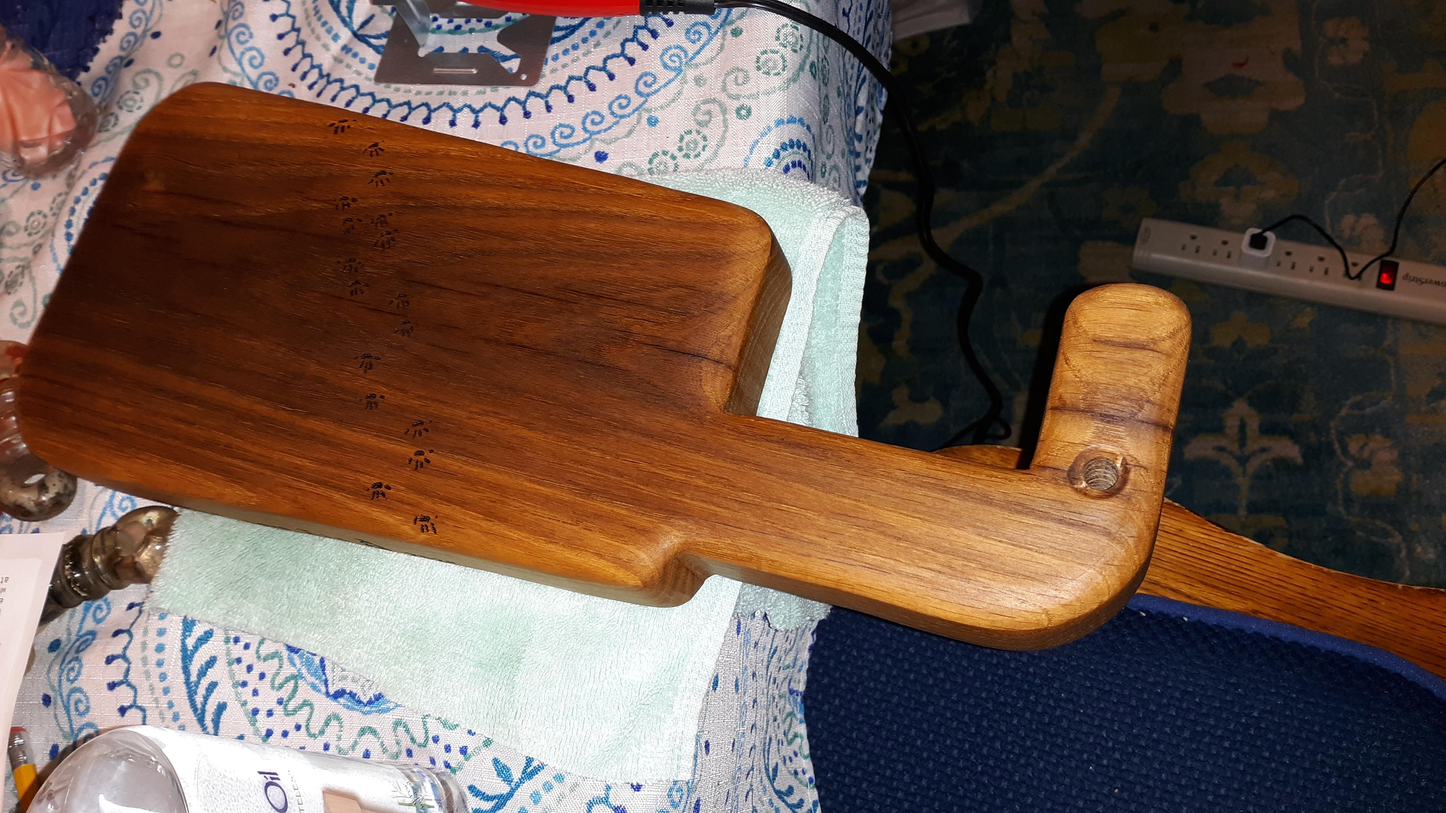gloved_hand: (13, 74, 1218, 675)
